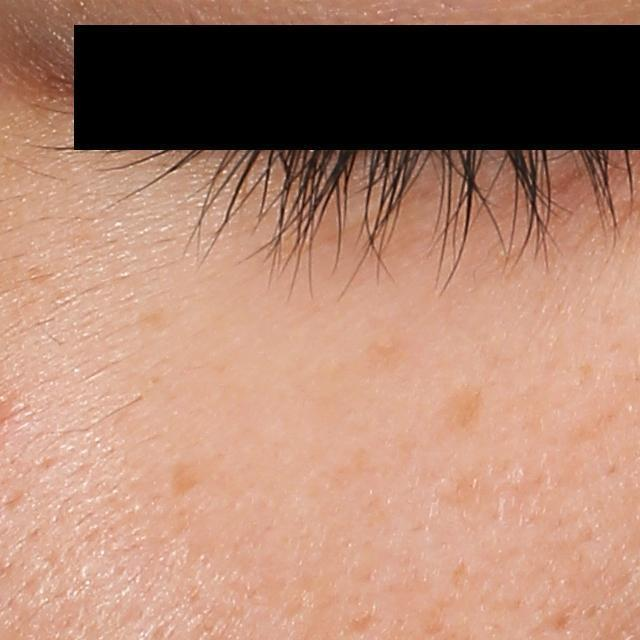melasma: (437, 391, 481, 432), (168, 456, 212, 495), (136, 308, 168, 333)
